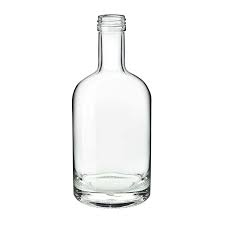bottle: (68, 11, 154, 211)
